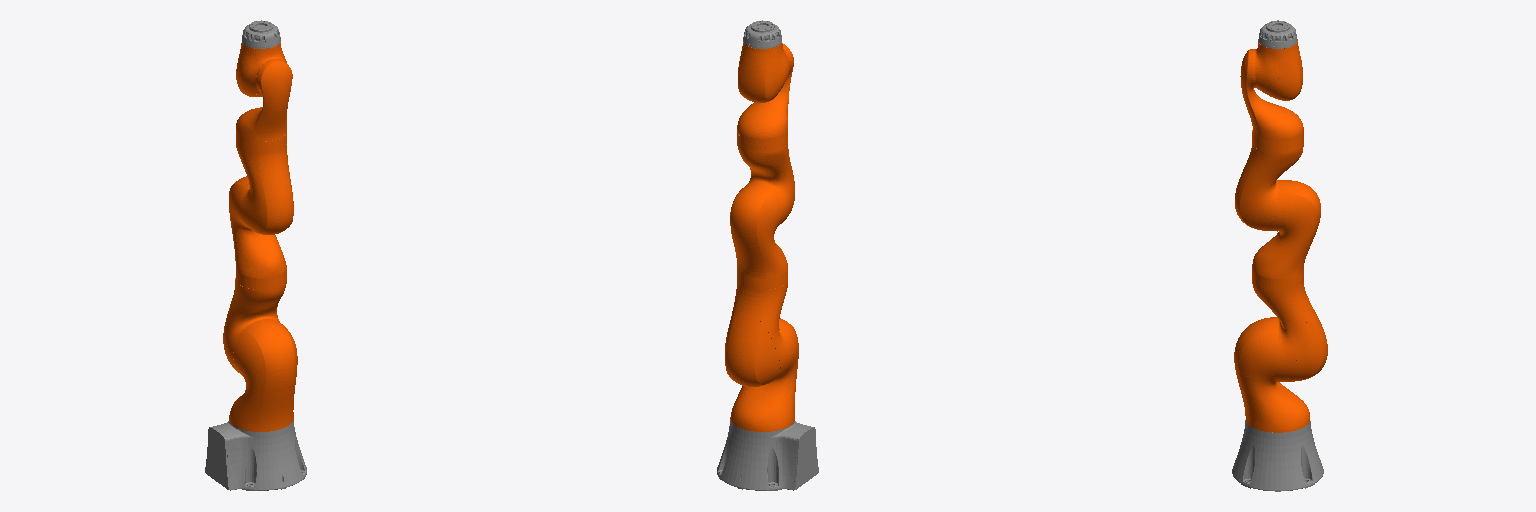
robot.urdf — kuka_iiwa:
<?xml version="1.0" ?>
<robot name="kuka_iiwa">

  <material name="LightGrey">
    <color rgba="0.6 0.6 0.6 1.0"/>
  </material>
  <material name="Orange">
    <color rgba="1.0 0.423529411765 0.0392156862745 1.0"/>
  </material>

  <link name="kuka_lbr_l_link_0">
    <inertial>
      <origin rpy="0 0 0" xyz="-0.1 0 0.07"/>
      <mass value="5"/>
      <inertia ixx="0.05" ixy="0" ixz="0" iyy="0.06" iyz="0" izz="0.03"/>
    </inertial>
    <visual name="visual_kuka_lbr_l_link_0">
      <origin rpy="0 0 0" xyz="0 0 0"/>
      <geometry>
        <mesh filename="../meshes/link_0.stl"/>
      </geometry>
      <material name="LightGrey"/>
    </visual>
    <collision name="collision_kuka_lbr_l_link_0">
      <origin xyz="0 0 0" rpy="0 0 0"/>
      <geometry>
        <mesh filename="../meshes/link_0.stl" scale="1.0 1.0 1.0"/>
      </geometry>
    </collision>
  </link>

  <joint name="kuka_lbr_l_joint_1" type="revolute">
    <parent link="kuka_lbr_l_link_0"/>
    <child link="kuka_lbr_l_link_1"/>
    <origin rpy="0 0 0" xyz="0 0 0.1575"/>
    <axis xyz="0 0 1"/>
    <limit effort="300" lower="-2.94" upper="2.94" velocity="1.48352986419"/>
    <dynamics damping="0.5"/>
  </joint>

  <link name="kuka_lbr_l_link_1">
    <inertial>
      <origin rpy="0 0 0" xyz="0 -0.03 0.12"/>
      <mass value="4"/>
      <inertia ixx="0.1" ixy="0" ixz="0" iyy="0.09" iyz="0" izz="0.02"/>
    </inertial>
    <visual name="visual_kuka_lbr_l_link_1">
      <origin rpy="0 0 0" xyz="0 0 0"/>
      <geometry>
        <mesh filename="../meshes/link_1.stl"/>
      </geometry>
      <material name="Orange"/>
    </visual>
    <collision name="collision_kuka_lbr_l_link_1">
      <origin xyz="0 0 0" rpy="0 0 0"/>
      <geometry>
        <mesh filename="../meshes/link_1.stl" scale="1.0 1.0 1.0"/>
      </geometry>
    </collision>
  </link>

  <joint name="kuka_lbr_l_joint_2" type="revolute">
    <parent link="kuka_lbr_l_link_1"/>
    <child link="kuka_lbr_l_link_2"/>
    <origin rpy="1.57079632679   0 3.14159265359" xyz="0 0 0.2025"/>
    <axis xyz="0 0 1"/>
    <limit effort="300" lower="-2.08" upper="2.08" velocity="1.48352986419"/>
    <dynamics damping="0.5"/>
  </joint>

  <link name="kuka_lbr_l_link_2">
    <inertial>
      <origin rpy="0 0 0" xyz="0.0003 0.059 0.042"/>
      <mass value="4"/>
      <inertia ixx="0.05" ixy="0" ixz="0" iyy="0.018" iyz="0" izz="0.044"/>
    </inertial>
    <visual name="visual_kuka_lbr_l_link_2">
      <origin rpy="0 0 0" xyz="0 0 0"/>
      <geometry>
        <mesh filename="../meshes/link_2.stl"/>
      </geometry>
      <material name="Orange"/>
    </visual>
    <collision name="collision_kuka_lbr_l_link_2">
      <origin xyz="0 0 0" rpy="0 0 0"/>
      <geometry>
        <mesh filename="../meshes/link_2.stl" scale="1.0 1.0 1.0"/>
      </geometry>
    </collision>
  </link>

  <joint name="kuka_lbr_l_joint_3" type="revolute">
    <parent link="kuka_lbr_l_link_2"/>
    <child link="kuka_lbr_l_link_3"/>
    <origin rpy="1.57079632679 0 3.14159265359" xyz="0 0.2045 0"/>
    <axis xyz="0 0 1"/>
    <limit effort="300" lower="-2.94" upper="2.94" velocity="1.7453292519"/>
    <dynamics damping="0.5"/>
  </joint>

  <link name="kuka_lbr_l_link_3">
    <inertial>
      <origin rpy="0 0 0" xyz="0 0.03 0.13"/>
      <mass value="3"/>
      <inertia ixx="0.08" ixy="0" ixz="0" iyy="0.075" iyz="0" izz="0.01"/>
    </inertial>
    <visual name="visual_kuka_lbr_l_link_3">
      <origin rpy="0 0 0" xyz="0 0 0"/>
      <geometry>
        <mesh filename="../meshes/link_3.stl"/>
      </geometry>
      <material name="Orange"/>
    </visual>
    <collision name="collision_kuka_lbr_l_link_3">
      <origin xyz="0 0 0" rpy="0 0 0"/>
      <geometry>
        <mesh filename="../meshes/link_3.stl" scale="1.0 1.0 1.0"/>
      </geometry>
    </collision>
  </link>

  <joint name="kuka_lbr_l_joint_4" type="revolute">
    <parent link="kuka_lbr_l_link_3"/>
    <child link="kuka_lbr_l_link_4"/>
    <origin rpy="1.57079632679 0 0" xyz="0 0 0.2155"/>
    <axis xyz="0 0 1"/>
    <limit effort="300" lower="-2.08" upper="2.08" velocity="1.3089969389"/>
    <dynamics damping="0.5"/>
  </joint>

  <link name="kuka_lbr_l_link_4">
    <inertial>
      <origin rpy="0 0 0" xyz="0 0.067 0.034"/>
      <mass value="2.7"/>
      <inertia ixx="0.03" ixy="0" ixz="0" iyy="0.01" iyz="0" izz="0.029"/>
    </inertial>
    <visual name="visual_kuka_lbr_l_link_4">
      <origin rpy="0 0 0" xyz="0 0 0"/>
      <geometry>
        <mesh filename="../meshes/link_4.stl"/>
      </geometry>
      <material name="Orange"/>
    </visual>
    <collision name="collision_kuka_lbr_l_link_4">
      <origin xyz="0 0 0" rpy="0 0 0"/>
      <geometry>
        <mesh filename="../meshes/link_4.stl" scale="1.0 1.0 1.0"/>
      </geometry>
    </collision>
  </link>

  <joint name="kuka_lbr_l_joint_5" type="revolute">
    <parent link="kuka_lbr_l_link_4"/>
    <child link="kuka_lbr_l_link_5"/>
    <origin rpy="-1.57079632679 3.14159265359 0" xyz="0 0.1845 0"/>
    <axis xyz="0 0 1"/>
    <limit effort="300" lower="-2.94" upper="2.94" velocity="2.2689280275"/>
    <dynamics damping="0.5"/>
  </joint>

  <link name="kuka_lbr_l_link_5">
    <inertial>
      <origin rpy="0 0 0" xyz="0.0001 0.021 0.076"/>
      <mass value="1.7"/>
      <inertia ixx="0.02" ixy="0" ixz="0" iyy="0.018" iyz="0" izz="0.005"/>
    </inertial>
    <visual name="visual_kuka_lbr_l_link_5">
      <origin rpy="0 0 0" xyz="0 0 0"/>
      <geometry>
        <mesh filename="../meshes/link_5.stl"/>
      </geometry>
      <material name="Orange"/>
    </visual>
    <collision name="collision_kuka_lbr_l_link_5">
      <origin xyz="0 0 0" rpy="0 0 0"/>
      <geometry>
        <mesh filename="../meshes/link_5.stl" scale="1.0 1.0 1.0"/>
      </geometry>
    </collision>
  </link>

  <joint name="kuka_lbr_l_joint_6" type="revolute">
    <parent link="kuka_lbr_l_link_5"/>
    <child link="kuka_lbr_l_link_6"/>
    <origin rpy="1.57079632679 0 0" xyz="0 0 0.2155"/>
    <axis xyz="0 0 1"/>
    <limit effort="300" lower="-2.08" upper="2.08" velocity="2.3561944901"/>
    <dynamics damping="0.5"/>
  </joint>

  <link name="kuka_lbr_l_link_6">
    <inertial>
      <origin rpy="0 0 0" xyz="0 0.0006 0.0004"/>
      <mass value="1.8"/>
      <inertia ixx="0.005" ixy="0" ixz="0" iyy="0.0036" iyz="0" izz="0.0047"/>
    </inertial>
    <visual name="visual_kuka_lbr_l_link_6">
      <origin rpy="0 0 0" xyz="0 0 0"/>
      <geometry>
        <mesh filename="../meshes/link_6.stl"/>
      </geometry>
      <material name="Orange"/>
    </visual>
    <collision name="collision_kuka_lbr_l_link_6">
      <origin xyz="0 0 0" rpy="0 0 0"/>
      <geometry>
        <mesh filename="../meshes/link_6.stl" scale="1.0 1.0 1.0"/>
      </geometry>
    </collision>
  </link>

  <joint name="kuka_lbr_l_joint_7" type="revolute">
    <parent link="kuka_lbr_l_link_6"/>
    <child link="kuka_lbr_l_link_7"/>
    <origin rpy="-1.57079632679 3.14159265359 0" xyz="0 0.081 0"/>
    <axis xyz="0 0 1"/>
    <limit effort="300" lower="-3.03" upper="3.03" velocity="2.3561944901"/>
    <dynamics damping="0.5"/>
  </joint>

  <link name="kuka_lbr_l_link_7">
    <inertial>
      <origin rpy="0 0 0" xyz="0 0 0.02"/>
      <mass value="0.3"/>
      <inertia ixx="0.001" ixy="0" ixz="0" iyy="0.001" iyz="0" izz="0.001"/>
    </inertial>
    <visual name="visual_kuka_lbr_l_link_7">
      <origin rpy="0 0 0" xyz="0 0 0"/>
      <geometry>
        <mesh filename="../meshes/link_7.stl"/>
      </geometry>
      <material name="LightGrey"/>
    </visual>
    <collision name="collision_kuka_lbr_l_link_7">
      <origin xyz="0 0 0" rpy="0 0 0"/>
      <geometry>
        <mesh filename="../meshes/link_7.stl" scale="1.0 1.0 1.0"/>
      </geometry>
    </collision>
  </link>

  <joint name="kuka_lbr_l_to_tcp" type="fixed">
    <parent link="kuka_lbr_l_link_7"/>
    <child link="kuka_lbr_l_tcp"/>
    <origin rpy="0 0 0" xyz="0 0 0.045"/>
    <axis xyz="0 0 1"/>
  </joint>

  <link name="kuka_lbr_l_tcp"/>
</robot>

--- What the picture shows (computed from the rendered views, not written in the file) ---
Views: 3 orthographic renders of the robot side by side, from view 1: azimuth 30°, elevation 25°; view 2: azimuth 150°, elevation 25°; view 3: azimuth 270°, elevation 25°.
Robot: kuka_iiwa — 9 links, 8 joints (7 revolute, 1 fixed); root link kuka_lbr_l_link_0; default pose: all joints at 0.
Visible links, largest first — view 1: kuka_lbr_l_link_1, kuka_lbr_l_link_0, kuka_lbr_l_link_4, kuka_lbr_l_link_5, kuka_lbr_l_link_3, kuka_lbr_l_link_2, kuka_lbr_l_link_6, kuka_lbr_l_link_7; view 2: kuka_lbr_l_link_0, kuka_lbr_l_link_2, kuka_lbr_l_link_3, kuka_lbr_l_link_1, kuka_lbr_l_link_5, kuka_lbr_l_link_6, kuka_lbr_l_link_4, kuka_lbr_l_link_7; view 3: kuka_lbr_l_link_1, kuka_lbr_l_link_0, kuka_lbr_l_link_3, kuka_lbr_l_link_2, kuka_lbr_l_link_4, kuka_lbr_l_link_5, kuka_lbr_l_link_6, kuka_lbr_l_link_7.
Boxes of the visible links, box(x1,y1,x2,y2) form: kuka_lbr_l_link_1: box(229, 319, 297, 431); kuka_lbr_l_link_0: box(205, 420, 306, 490); kuka_lbr_l_link_4: box(236, 144, 293, 234); kuka_lbr_l_link_5: box(236, 59, 292, 152); kuka_lbr_l_link_3: box(229, 176, 286, 289); kuka_lbr_l_link_2: box(223, 278, 286, 372); kuka_lbr_l_link_6: box(236, 42, 286, 96); kuka_lbr_l_link_7: box(242, 20, 280, 48); kuka_lbr_l_link_0: box(717, 419, 818, 490); kuka_lbr_l_link_2: box(725, 281, 790, 386); kuka_lbr_l_link_3: box(730, 182, 787, 289); kuka_lbr_l_link_1: box(730, 318, 798, 431); kuka_lbr_l_link_5: box(737, 43, 793, 152); kuka_lbr_l_link_6: box(738, 42, 790, 102); kuka_lbr_l_link_4: box(737, 144, 794, 223); kuka_lbr_l_link_7: box(743, 20, 781, 48); kuka_lbr_l_link_1: box(1234, 317, 1309, 432); kuka_lbr_l_link_0: box(1232, 420, 1323, 491); kuka_lbr_l_link_3: box(1252, 180, 1320, 289); kuka_lbr_l_link_2: box(1252, 281, 1327, 381); kuka_lbr_l_link_4: box(1235, 144, 1303, 231); kuka_lbr_l_link_5: box(1240, 49, 1303, 152); kuka_lbr_l_link_6: box(1255, 41, 1302, 100); kuka_lbr_l_link_7: box(1258, 20, 1297, 48).
Size in the robot's own frame: 0.2572 by 0.2535 by 1.31 metres.
8 mesh visuals loaded from 8 distinct referenced files (8 binary STL).